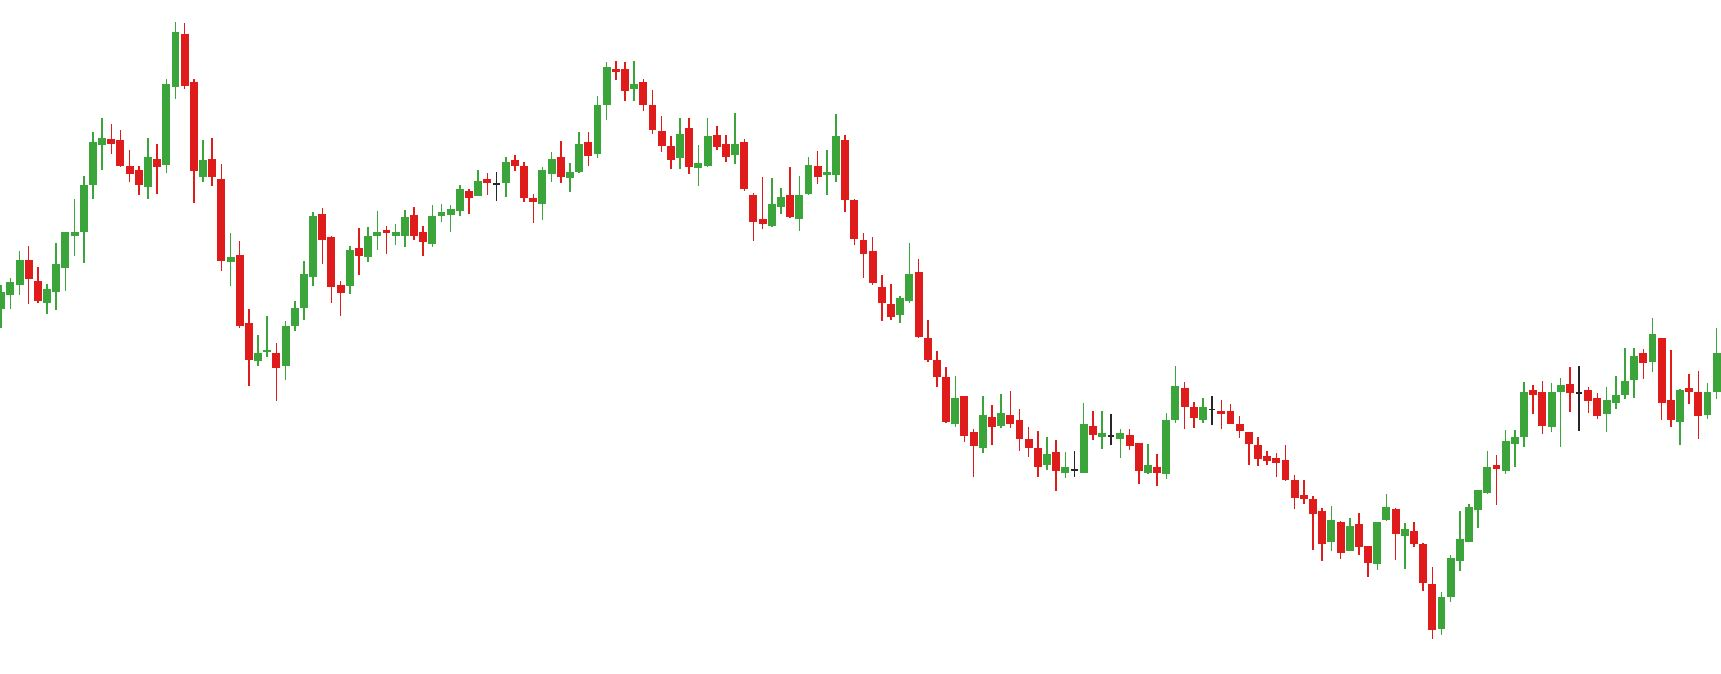buy: (1600, 362, 1685, 450)
